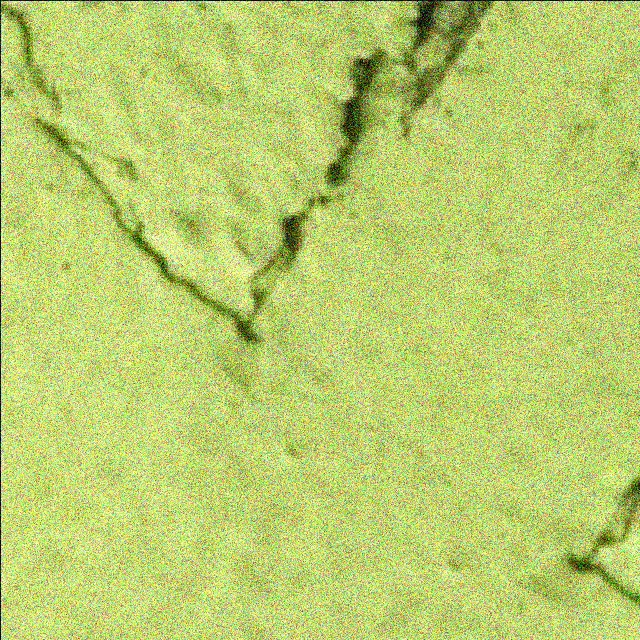SurfaceCrack: (532, 480, 640, 610)
